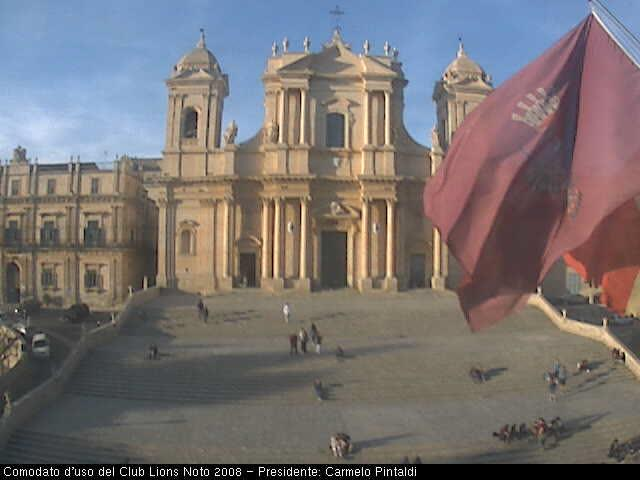person: (310, 324, 321, 355), (288, 330, 299, 360), (313, 376, 325, 401), (340, 432, 353, 454), (299, 326, 308, 355), (335, 344, 347, 365), (282, 302, 292, 326), (146, 344, 160, 360), (330, 435, 340, 456), (501, 423, 510, 445), (609, 438, 618, 460), (538, 417, 545, 444), (476, 363, 485, 384), (548, 381, 557, 401), (557, 366, 566, 385), (196, 296, 203, 320), (519, 422, 528, 440), (625, 438, 634, 456), (617, 348, 626, 366), (619, 442, 627, 462), (469, 368, 478, 385), (550, 419, 557, 440), (554, 416, 562, 434), (553, 358, 561, 376), (531, 420, 538, 440), (241, 271, 248, 290), (203, 303, 209, 324), (511, 424, 518, 441), (584, 361, 591, 378), (610, 347, 617, 364), (577, 360, 584, 376), (545, 370, 552, 383), (400, 455, 409, 464), (413, 456, 423, 464)
